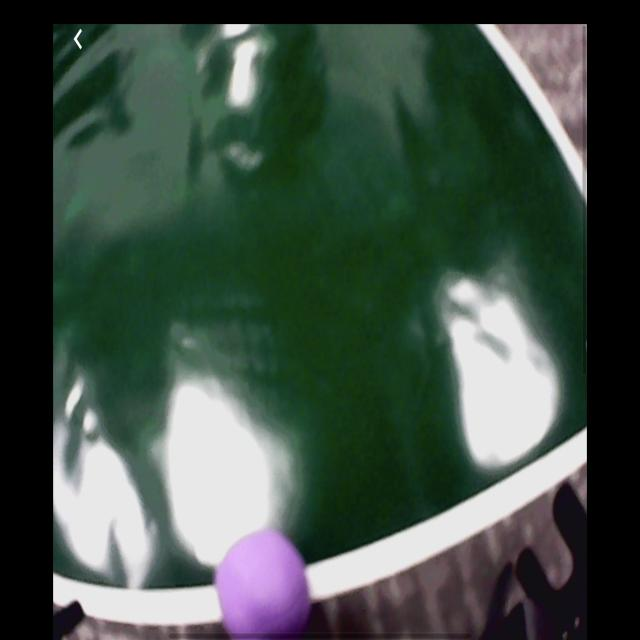ball: (215, 527, 309, 640)
